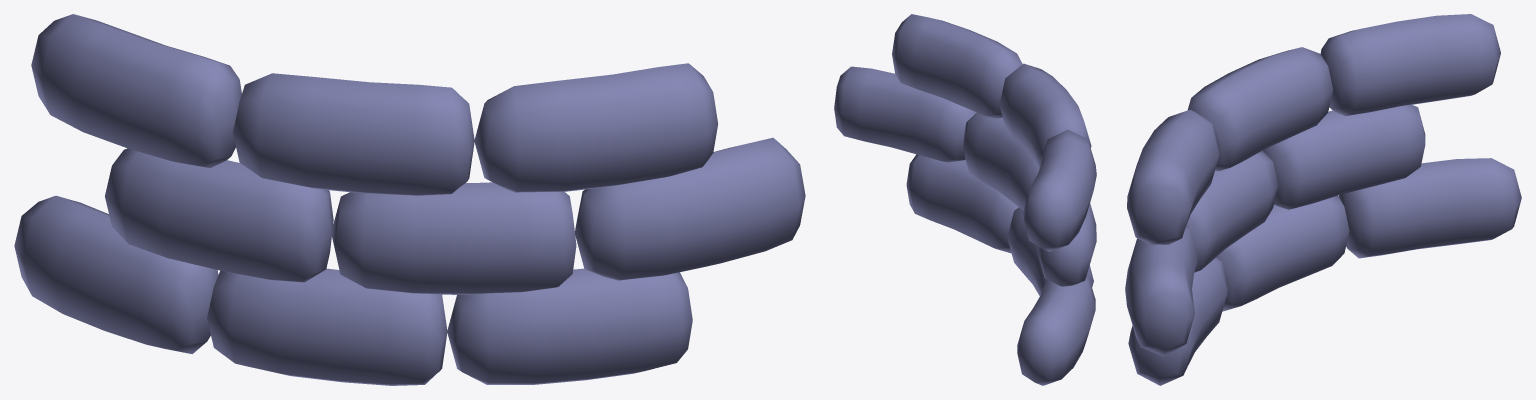
The model's file is Bricks.fbx.
3 views of the same model, side by side, from view 1: azimuth 30°, elevation 25°; view 2: azimuth 150°, elevation 25°; view 3: azimuth 270°, elevation 25° (orthographic). The views are drawn at different scales.
Parts seen in each view (by area): view 1: Bricks; view 2: Bricks; view 3: Bricks.
Part boxes in pixels (left/top/right/bottom): Bricks: left=14, top=14, right=805, bottom=385; Bricks: left=834, top=14, right=1096, bottom=385; Bricks: left=1125, top=14, right=1521, bottom=385.
Size of the model in its own units: 4.82 by 2.49 by 3.88.
